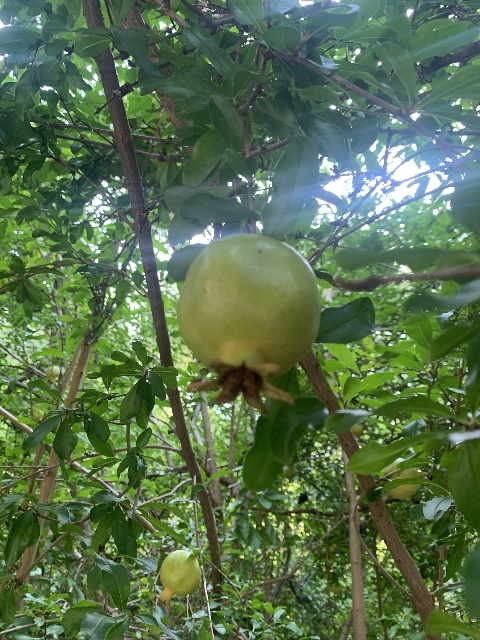mid-growth: (176, 234, 321, 412), (153, 549, 201, 609), (379, 456, 428, 499), (283, 465, 297, 482), (45, 365, 60, 380)
